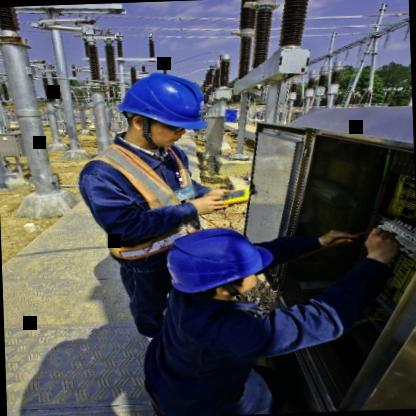helmet: (151, 220, 283, 317), (114, 66, 216, 158)
